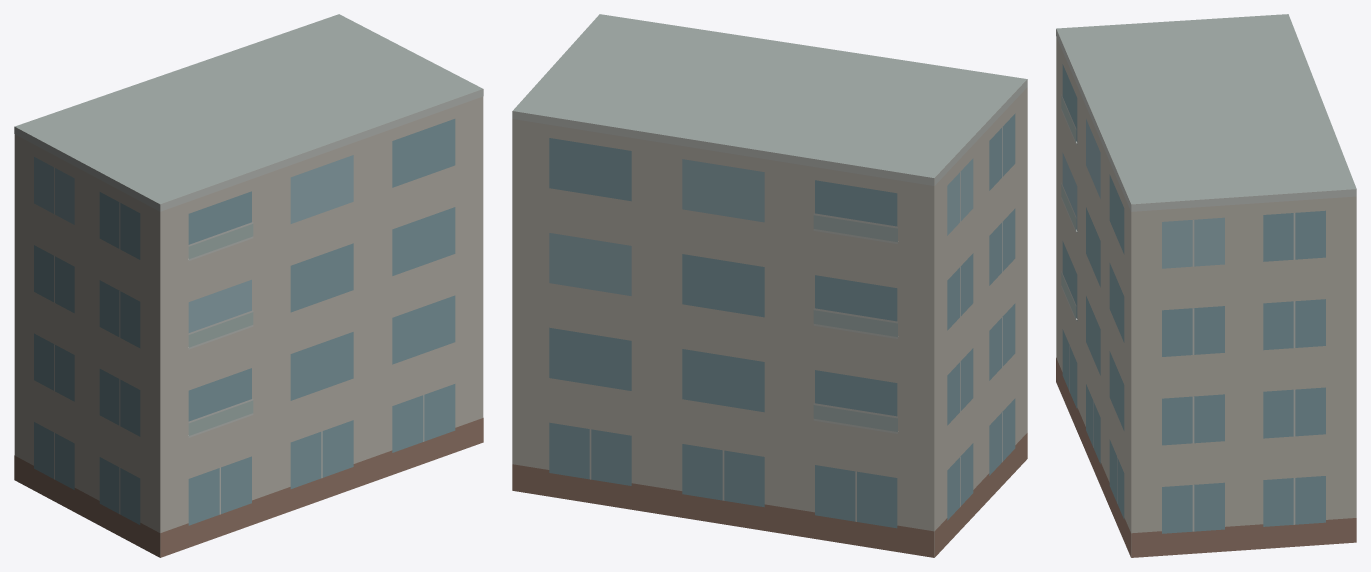
Rendered from survey-upis-32538605.glb.
3 renders of one model, left to right at view 1: azimuth 30°, elevation 25°; view 2: azimuth 150°, elevation 25°; view 3: azimuth 270°, elevation 25°, orthographic. The views are drawn at different scales.
Visible parts, largest first — view 1: survey-upis-32538605.tmp; view 2: survey-upis-32538605.tmp; view 3: survey-upis-32538605.tmp.
Boxes of the visible parts, x1,y1,x2,y2 form: survey-upis-32538605.tmp: (14, 14, 483, 557); survey-upis-32538605.tmp: (512, 14, 1027, 557); survey-upis-32538605.tmp: (1056, 14, 1356, 557).
Size of the model in its own units: 13.41 by 11.6 by 8.95.
